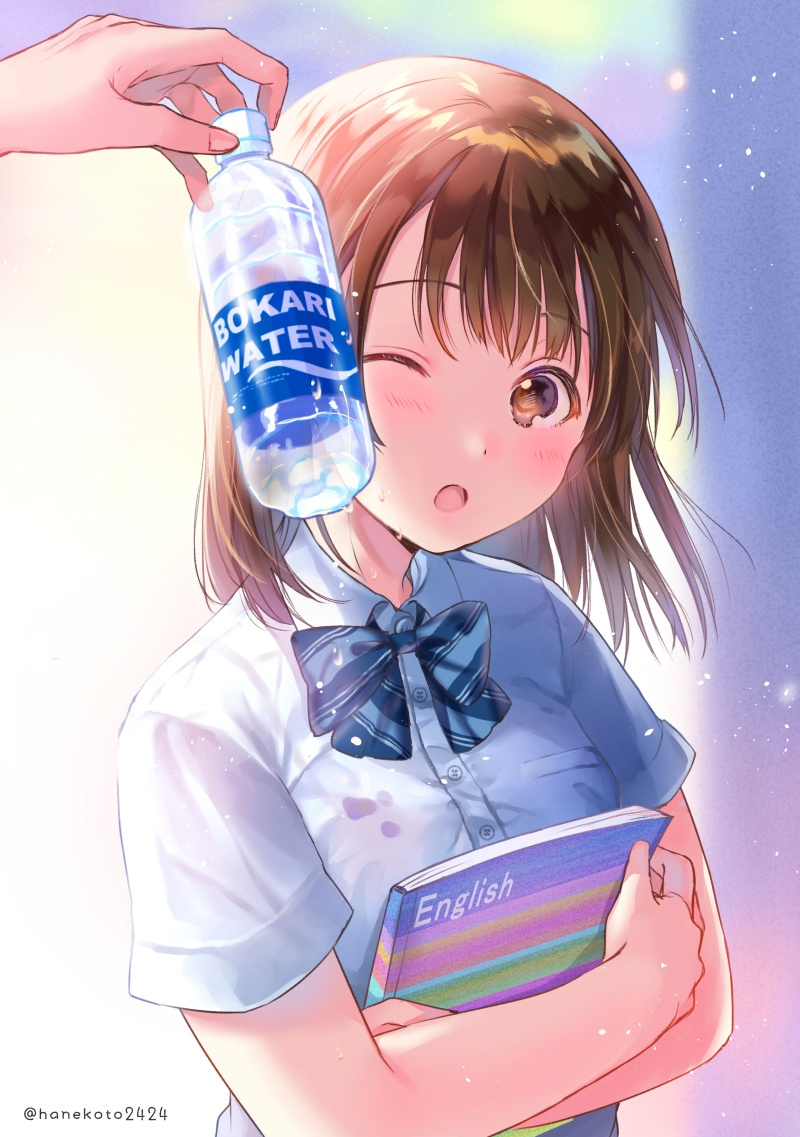纸片人正脸: (291, 51, 682, 582)
